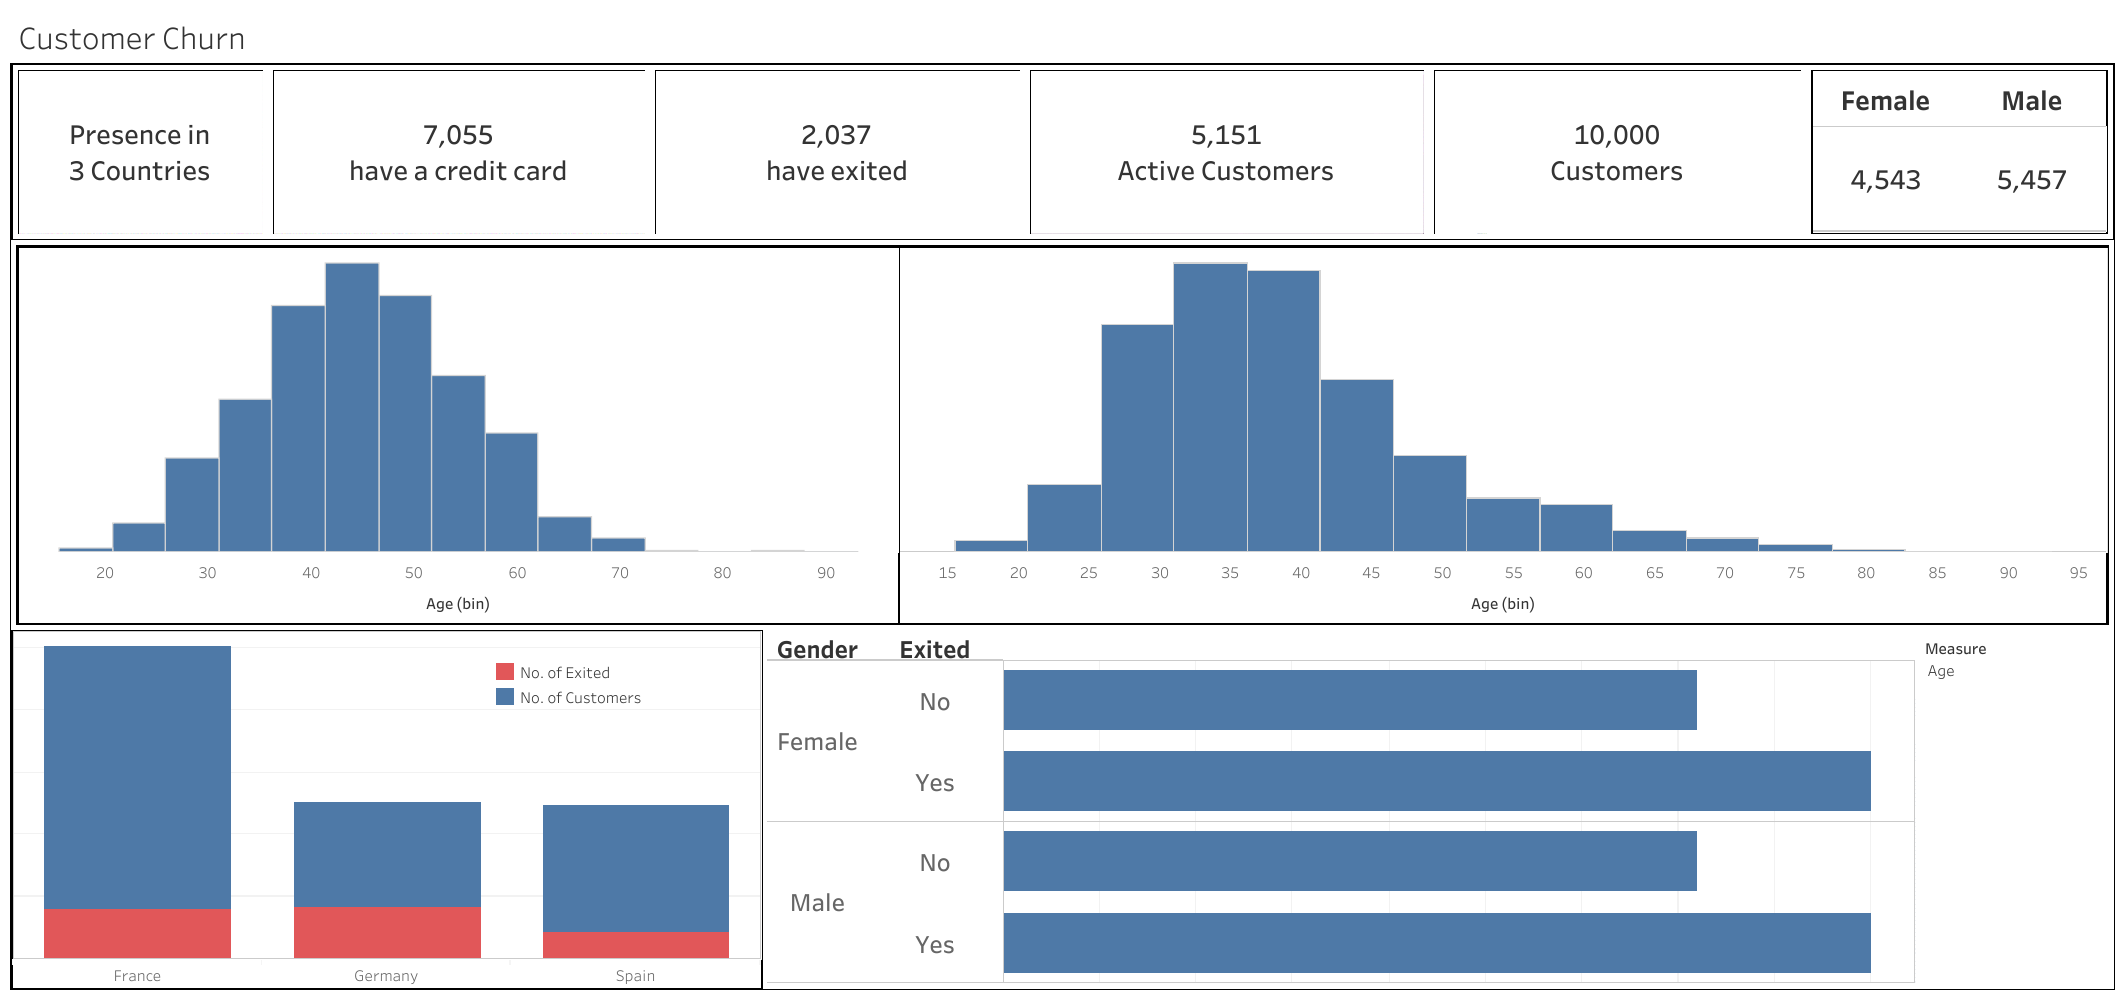

This screenshot's page, from the dashboard's own definition file:
{"tool":"tableau","page":{"name":"Customer Churn","canvas":[1700,800],"ordinal":0},"visuals":[{"type":"title","box":[8,8,1684,50]},{"type":"worksheet","title":"No of countries","mark":"Automatic","box":[10,60,217,139]},{"type":"worksheet","title":"Credit card","mark":"Automatic","box":[227,60,269,139]},{"type":"worksheet","title":"Exited Customers","mark":"Automatic","box":[496,60,268,139]},{"type":"worksheet","title":"Active Customers","mark":"Automatic","box":[764,60,295,139]},{"type":"worksheet","title":"No of Customers","mark":"Automatic","box":[1059,60,258,139]},{"type":"worksheet","title":"Gender","mark":"Automatic","cols":["Gender"],"box":[1317,60,372.9,139]},{"type":"worksheet","title":"age wise exited","mark":"Automatic","rows":["Exited"],"cols":["Age (bin)"],"box":[14,205,705,302]},{"type":"worksheet","title":"age dist","mark":"Automatic","rows":["Age"],"cols":["Age (bin)"],"box":[719,205,967,302]},{"type":"worksheet","title":"geography","mark":"Bar","rows":["Churn_Modelling.csv_39B226B3CC444C6F895EE6A1CFADC2AB","Exited"],"cols":["Geography"],"box":[9,512,635,279]},{"type":"worksheet","title":"parameter","mark":"Automatic","rows":["Gender","Exited"],"cols":["Calculation_345932804675661824"],"box":[644,512,872,279]},{"type":"parameter","param":"[Parameters].[Parameter 1]","box":[1516,512,175,279]},{"type":"legend","title":"geography","param":"[federated.05dfxc40q2hdm118xlt2o0j1azxn].[:Measure Names]","box":[394,527,239,64]}]}

Visuals, with their boxes in screenshot pixels (x1, y1, x2, y2), scaled from the page's 1700x800 canvas onto the 2124x999 screenshot:
title: l=10, t=10, r=2114, b=72
"No of countries" worksheet: l=12, t=75, r=284, b=249
"Credit card" worksheet: l=284, t=75, r=620, b=249
"Exited Customers" worksheet: l=620, t=75, r=955, b=249
"Active Customers" worksheet: l=955, t=75, r=1323, b=249
"No of Customers" worksheet: l=1323, t=75, r=1645, b=249
"Gender" worksheet: l=1645, t=75, r=2111, b=249
"age wise exited" worksheet: l=17, t=256, r=898, b=633
"age dist" worksheet: l=898, t=256, r=2107, b=633
"geography" worksheet (Bar marks): l=11, t=639, r=805, b=988
"parameter" worksheet: l=805, t=639, r=1894, b=988
parameter: l=1894, t=639, r=2113, b=988
"geography" legend: l=492, t=658, r=791, b=738
